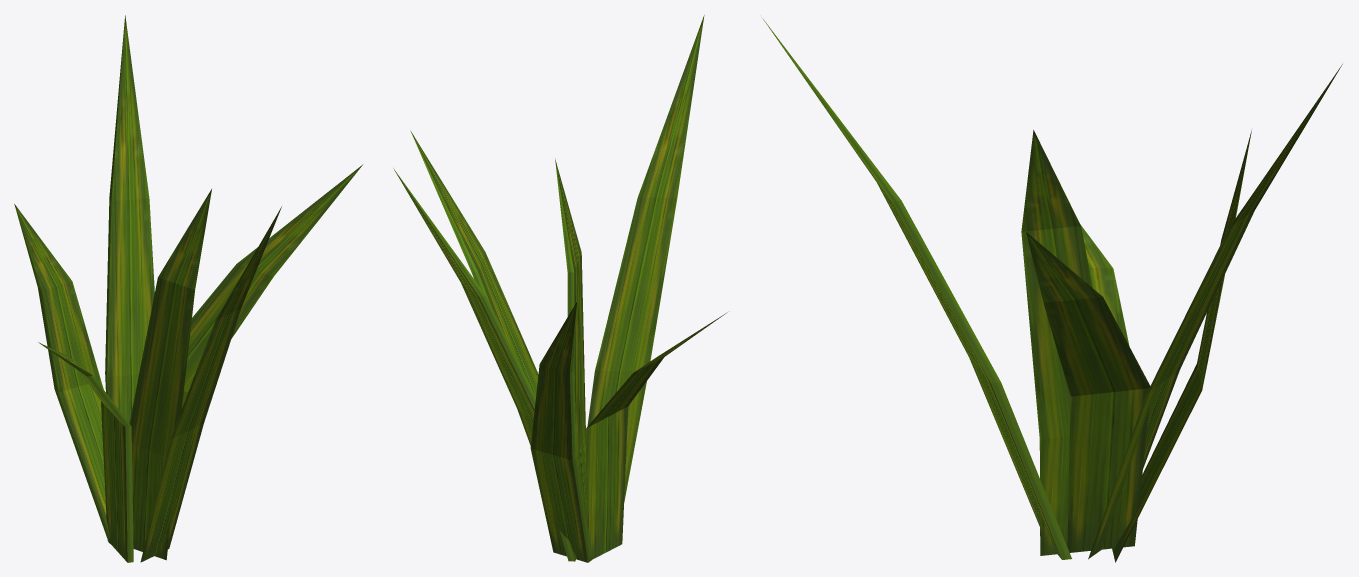
File: trees__weeds.glb
The picture shows the model from 3 angles, left to right: view 1: azimuth 30°, elevation 25°; view 2: azimuth 150°, elevation 25°; view 3: azimuth 270°, elevation 25°; orthographic projection. The views are drawn at different scales.
Visible parts, largest first — view 1: weeds64; view 2: weeds64; view 3: weeds64.
Part boxes in pixels (<box>): weeds64: <box>14,15,363,562</box>; weeds64: <box>393,15,727,562</box>; weeds64: <box>762,18,1342,562</box>.
Bounding box in the file's own units: 22.4 × 28.86 × 28.13.
Materials: 1 (1 with a texture image).
